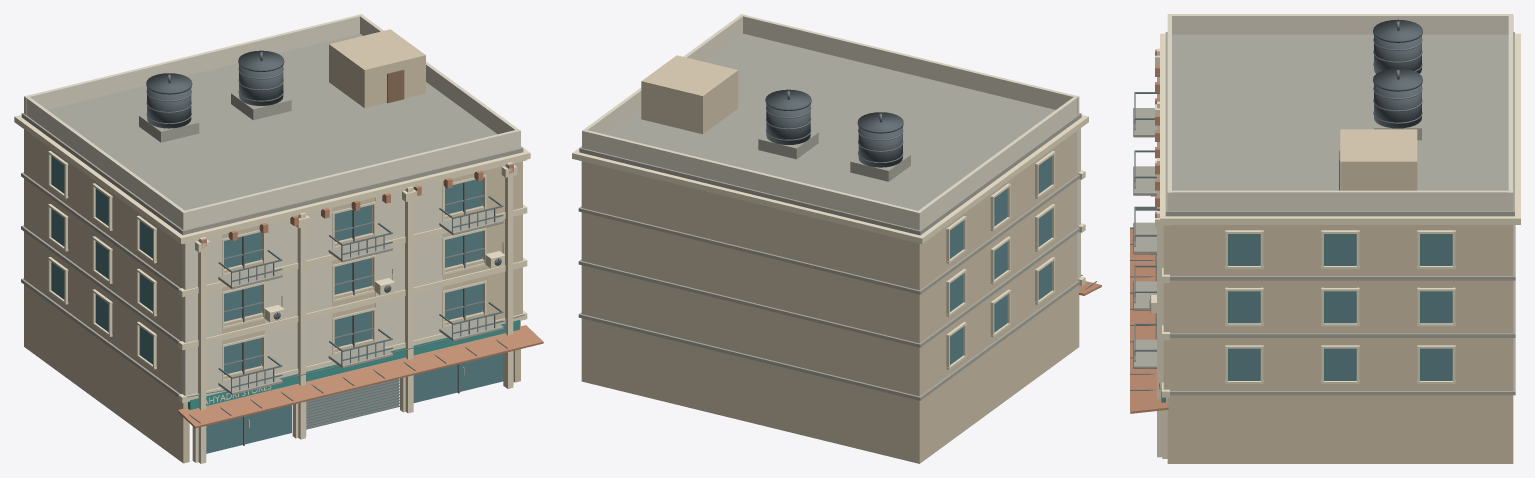
Rendered from heritage-shop.glb.
3 renders of one model, left to right at view 1: azimuth 30°, elevation 25°; view 2: azimuth 150°, elevation 25°; view 3: azimuth 270°, elevation 25°, orthographic. The views are drawn at different scales.
Parts seen in each view (by area): view 1: heritage-shop_CONCRETE, heritage-shop_PLASTER, heritage-shop_PLASTER_LIGHT, heritage-shop_CREAM, heritage-shop_GLASS, heritage-shop_METAL, heritage-shop_TERRACOTTA, heritage-shop_TANK, heritage-shop_AWNING, heritage-shop_SHUTTER, heritage-shop_WOOD; view 2: heritage-shop_PLASTER, heritage-shop_CONCRETE, heritage-shop_PLASTER_LIGHT, heritage-shop_CREAM, heritage-shop_TANK, heritage-shop_GLASS, heritage-shop_METAL; view 3: heritage-shop_PLASTER, heritage-shop_CONCRETE, heritage-shop_PLASTER_LIGHT, heritage-shop_CREAM, heritage-shop_GLASS, heritage-shop_TANK, heritage-shop_TERRACOTTA, heritage-shop_METAL.
Boxes of the visible parts, box(x1,y1,x2,y2) form: heritage-shop_CONCRETE: box(21, 33, 523, 396); heritage-shop_PLASTER: box(24, 29, 522, 463); heritage-shop_PLASTER_LIGHT: box(24, 14, 520, 395); heritage-shop_CREAM: box(14, 115, 530, 463); heritage-shop_GLASS: box(51, 156, 503, 453); heritage-shop_METAL: box(146, 52, 524, 445); heritage-shop_TERRACOTTA: box(177, 164, 543, 428); heritage-shop_TANK: box(146, 50, 501, 318); heritage-shop_AWNING: box(188, 319, 519, 409); heritage-shop_SHUTTER: box(306, 379, 399, 427); heritage-shop_WOOD: box(387, 69, 404, 103); heritage-shop_PLASTER: box(581, 55, 1079, 463); heritage-shop_CONCRETE: box(578, 33, 1081, 400); heritage-shop_PLASTER_LIGHT: box(582, 14, 1080, 280); heritage-shop_CREAM: box(572, 115, 1088, 369); heritage-shop_TANK: box(765, 89, 903, 167); heritage-shop_GLASS: box(950, 156, 1051, 364); heritage-shop_METAL: box(766, 91, 1096, 294); heritage-shop_PLASTER: box(1163, 129, 1513, 463); heritage-shop_CONCRETE: box(1133, 32, 1515, 395); heritage-shop_PLASTER_LIGHT: box(1167, 14, 1513, 211); heritage-shop_CREAM: box(1150, 33, 1520, 458); heritage-shop_GLASS: box(1228, 234, 1452, 380); heritage-shop_TANK: box(1149, 19, 1422, 307); heritage-shop_TERRACOTTA: box(1130, 49, 1168, 413); heritage-shop_METAL: box(1130, 21, 1422, 390).
Size of the model in its own units: 22.8 by 17.95 by 20.35.
